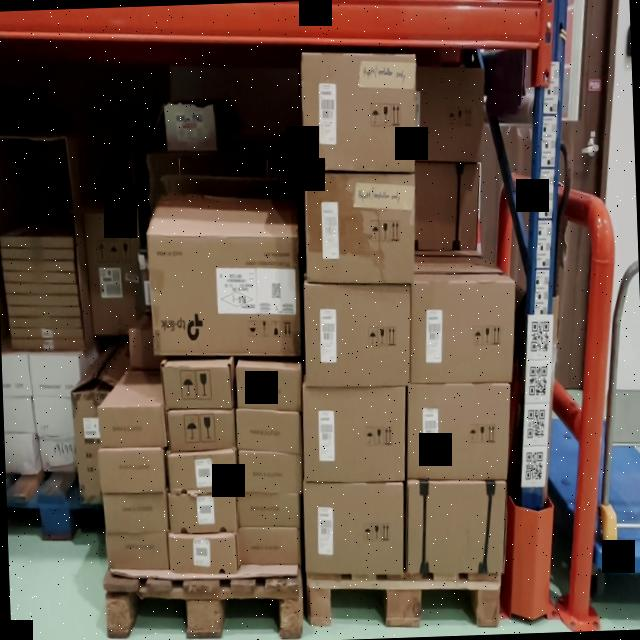box: (147, 230, 300, 359), (303, 50, 417, 176), (306, 174, 414, 284), (304, 282, 411, 386), (411, 280, 514, 383), (302, 384, 406, 482), (408, 384, 508, 480), (406, 480, 502, 574), (306, 483, 402, 572), (236, 360, 301, 410), (236, 408, 301, 454), (168, 406, 235, 448), (107, 526, 168, 572), (98, 404, 164, 445), (98, 448, 162, 490), (238, 451, 302, 492), (162, 367, 231, 405), (165, 102, 217, 150), (166, 453, 238, 487), (168, 494, 236, 530), (240, 489, 299, 530), (103, 495, 169, 529), (170, 536, 236, 568), (237, 532, 300, 564)
